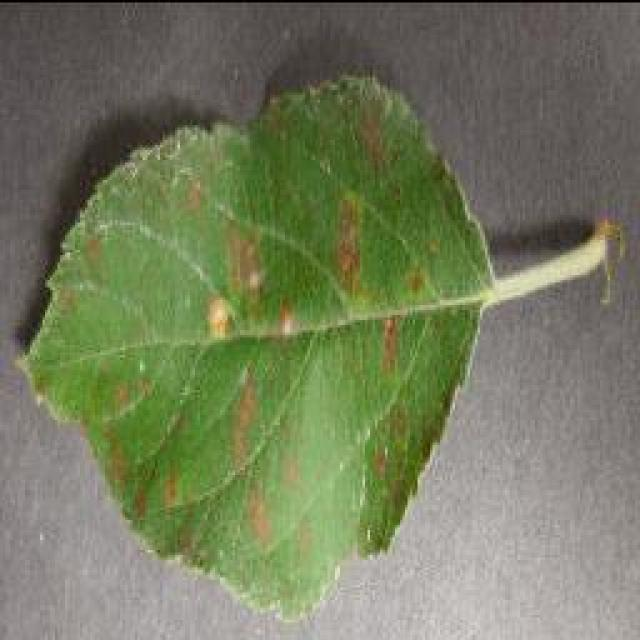apple healthy: (12, 68, 622, 622)
